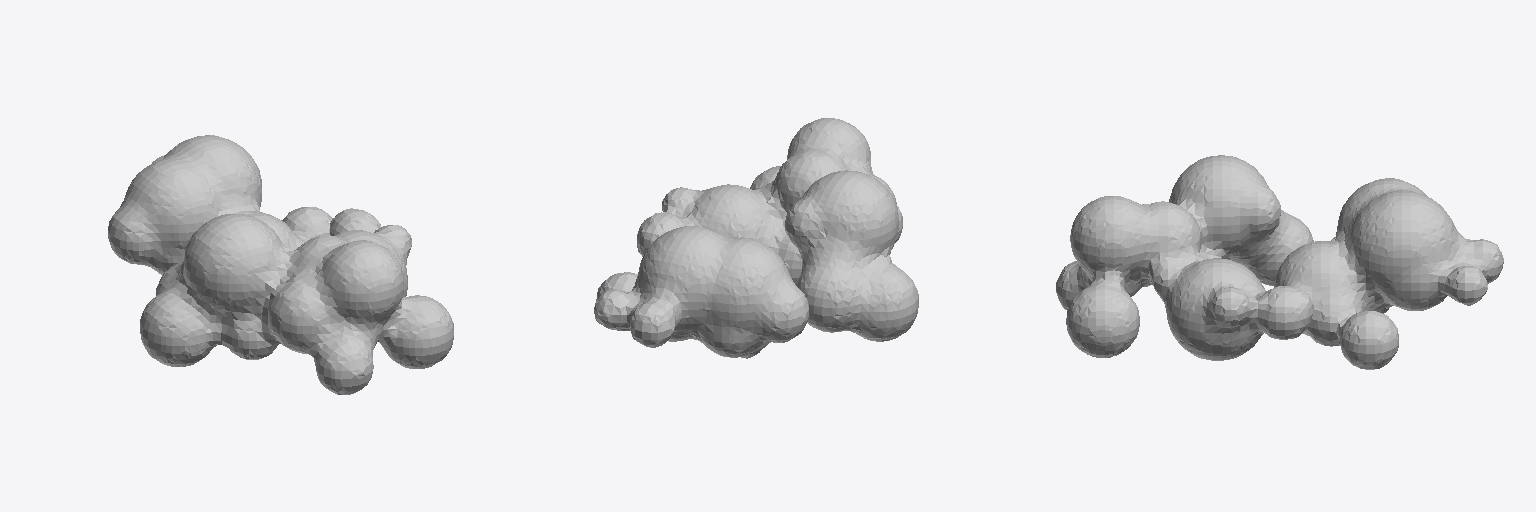
Rendered from cloud-c.obj.
The picture shows the model from 3 angles: view 1: azimuth 30°, elevation 25°; view 2: azimuth 150°, elevation 25°; view 3: azimuth 270°, elevation 25°; orthographic projection.
Visible parts, largest first — view 1: Cube.002; view 2: Cube.002; view 3: Cube.002.
Part boxes in pixels (x1,y1,x2,y2): Cube.002: (108,135,453,394); Cube.002: (594,118,918,358); Cube.002: (1056,155,1503,369).
Bounding box in the file's own units: 4.95 × 2.64 × 7.48.